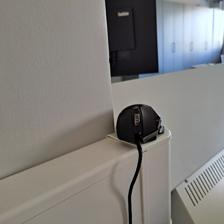mouse: (115, 103, 165, 144)
